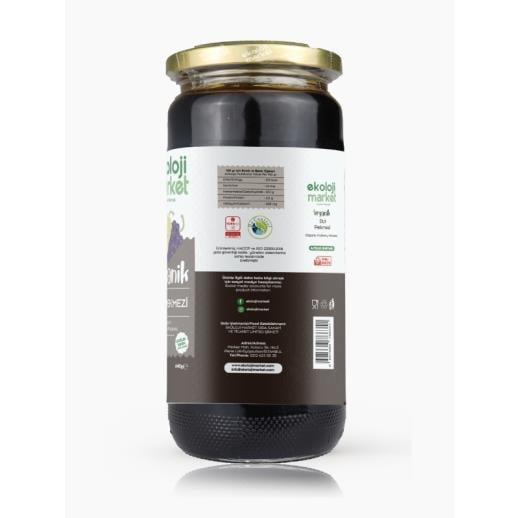jars: (165, 43, 345, 459)
